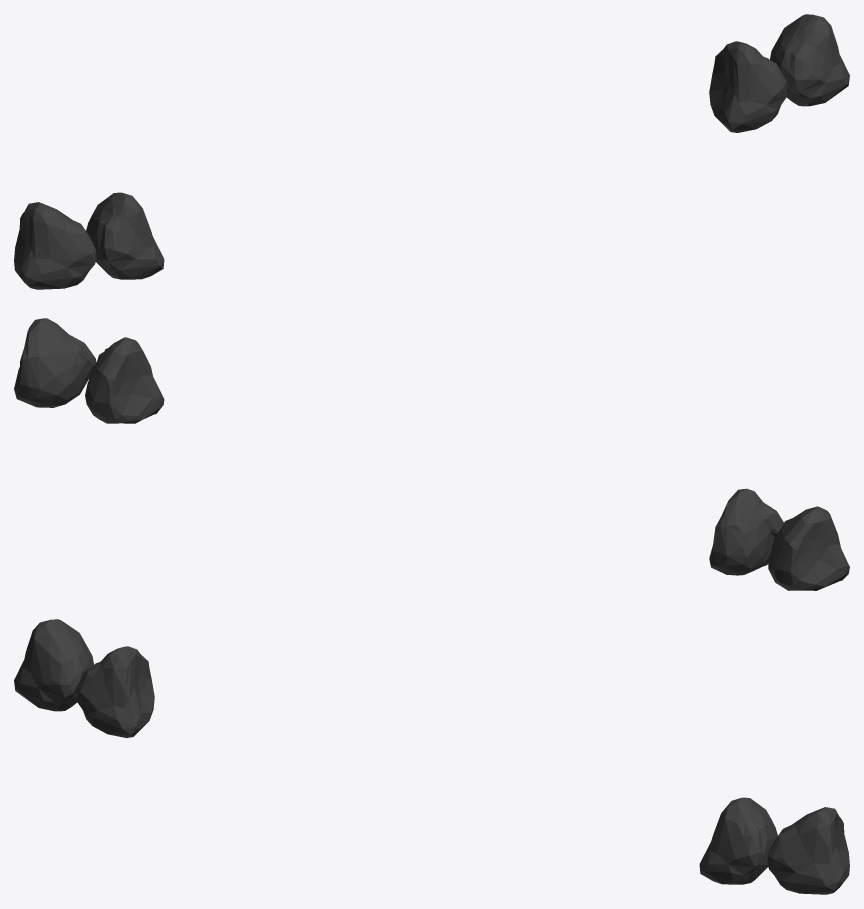
Rendered from skel_HL_proximal_sesamoids.glb.
3 views of the same model, one above another, from view 1: azimuth 30°, elevation 25°; view 2: azimuth 150°, elevation 25°; view 3: azimuth 330°, elevation 25° (orthographic).
Parts seen in each view (by area): view 1: skel_HL_proximal_sesamoids; view 2: skel_HL_proximal_sesamoids; view 3: skel_HL_proximal_sesamoids.
Part boxes in pixels (x1=…): skel_HL_proximal_sesamoids: x1=14, y1=14, x2=849, y2=289; skel_HL_proximal_sesamoids: x1=14, y1=318, x2=849, y2=590; skel_HL_proximal_sesamoids: x1=14, y1=619, x2=849, y2=894.
Bounding box in the file's own units: 0.00536 × 0.000524 × 0.000519.
Materials: 1 (1 with a texture image).
